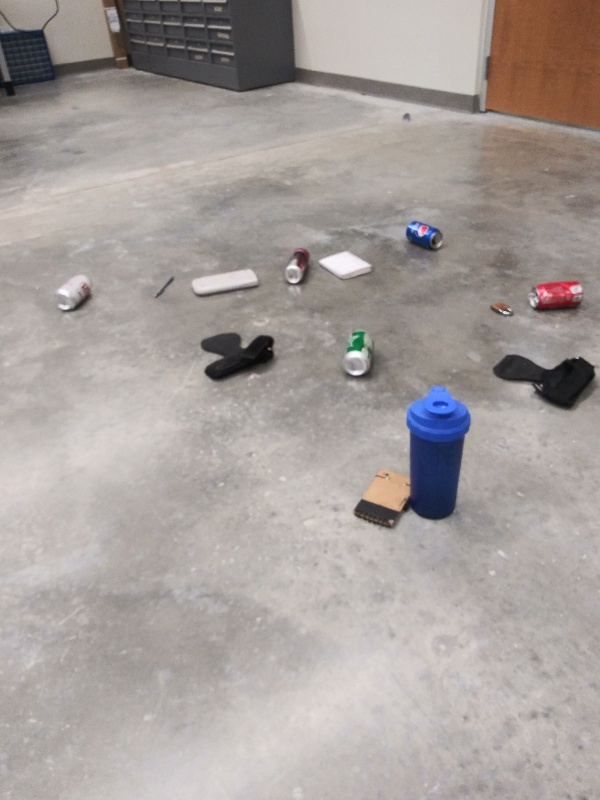can: (525, 276, 588, 312), (339, 327, 376, 384), (51, 272, 95, 318), (402, 216, 446, 254), (280, 242, 314, 288)
